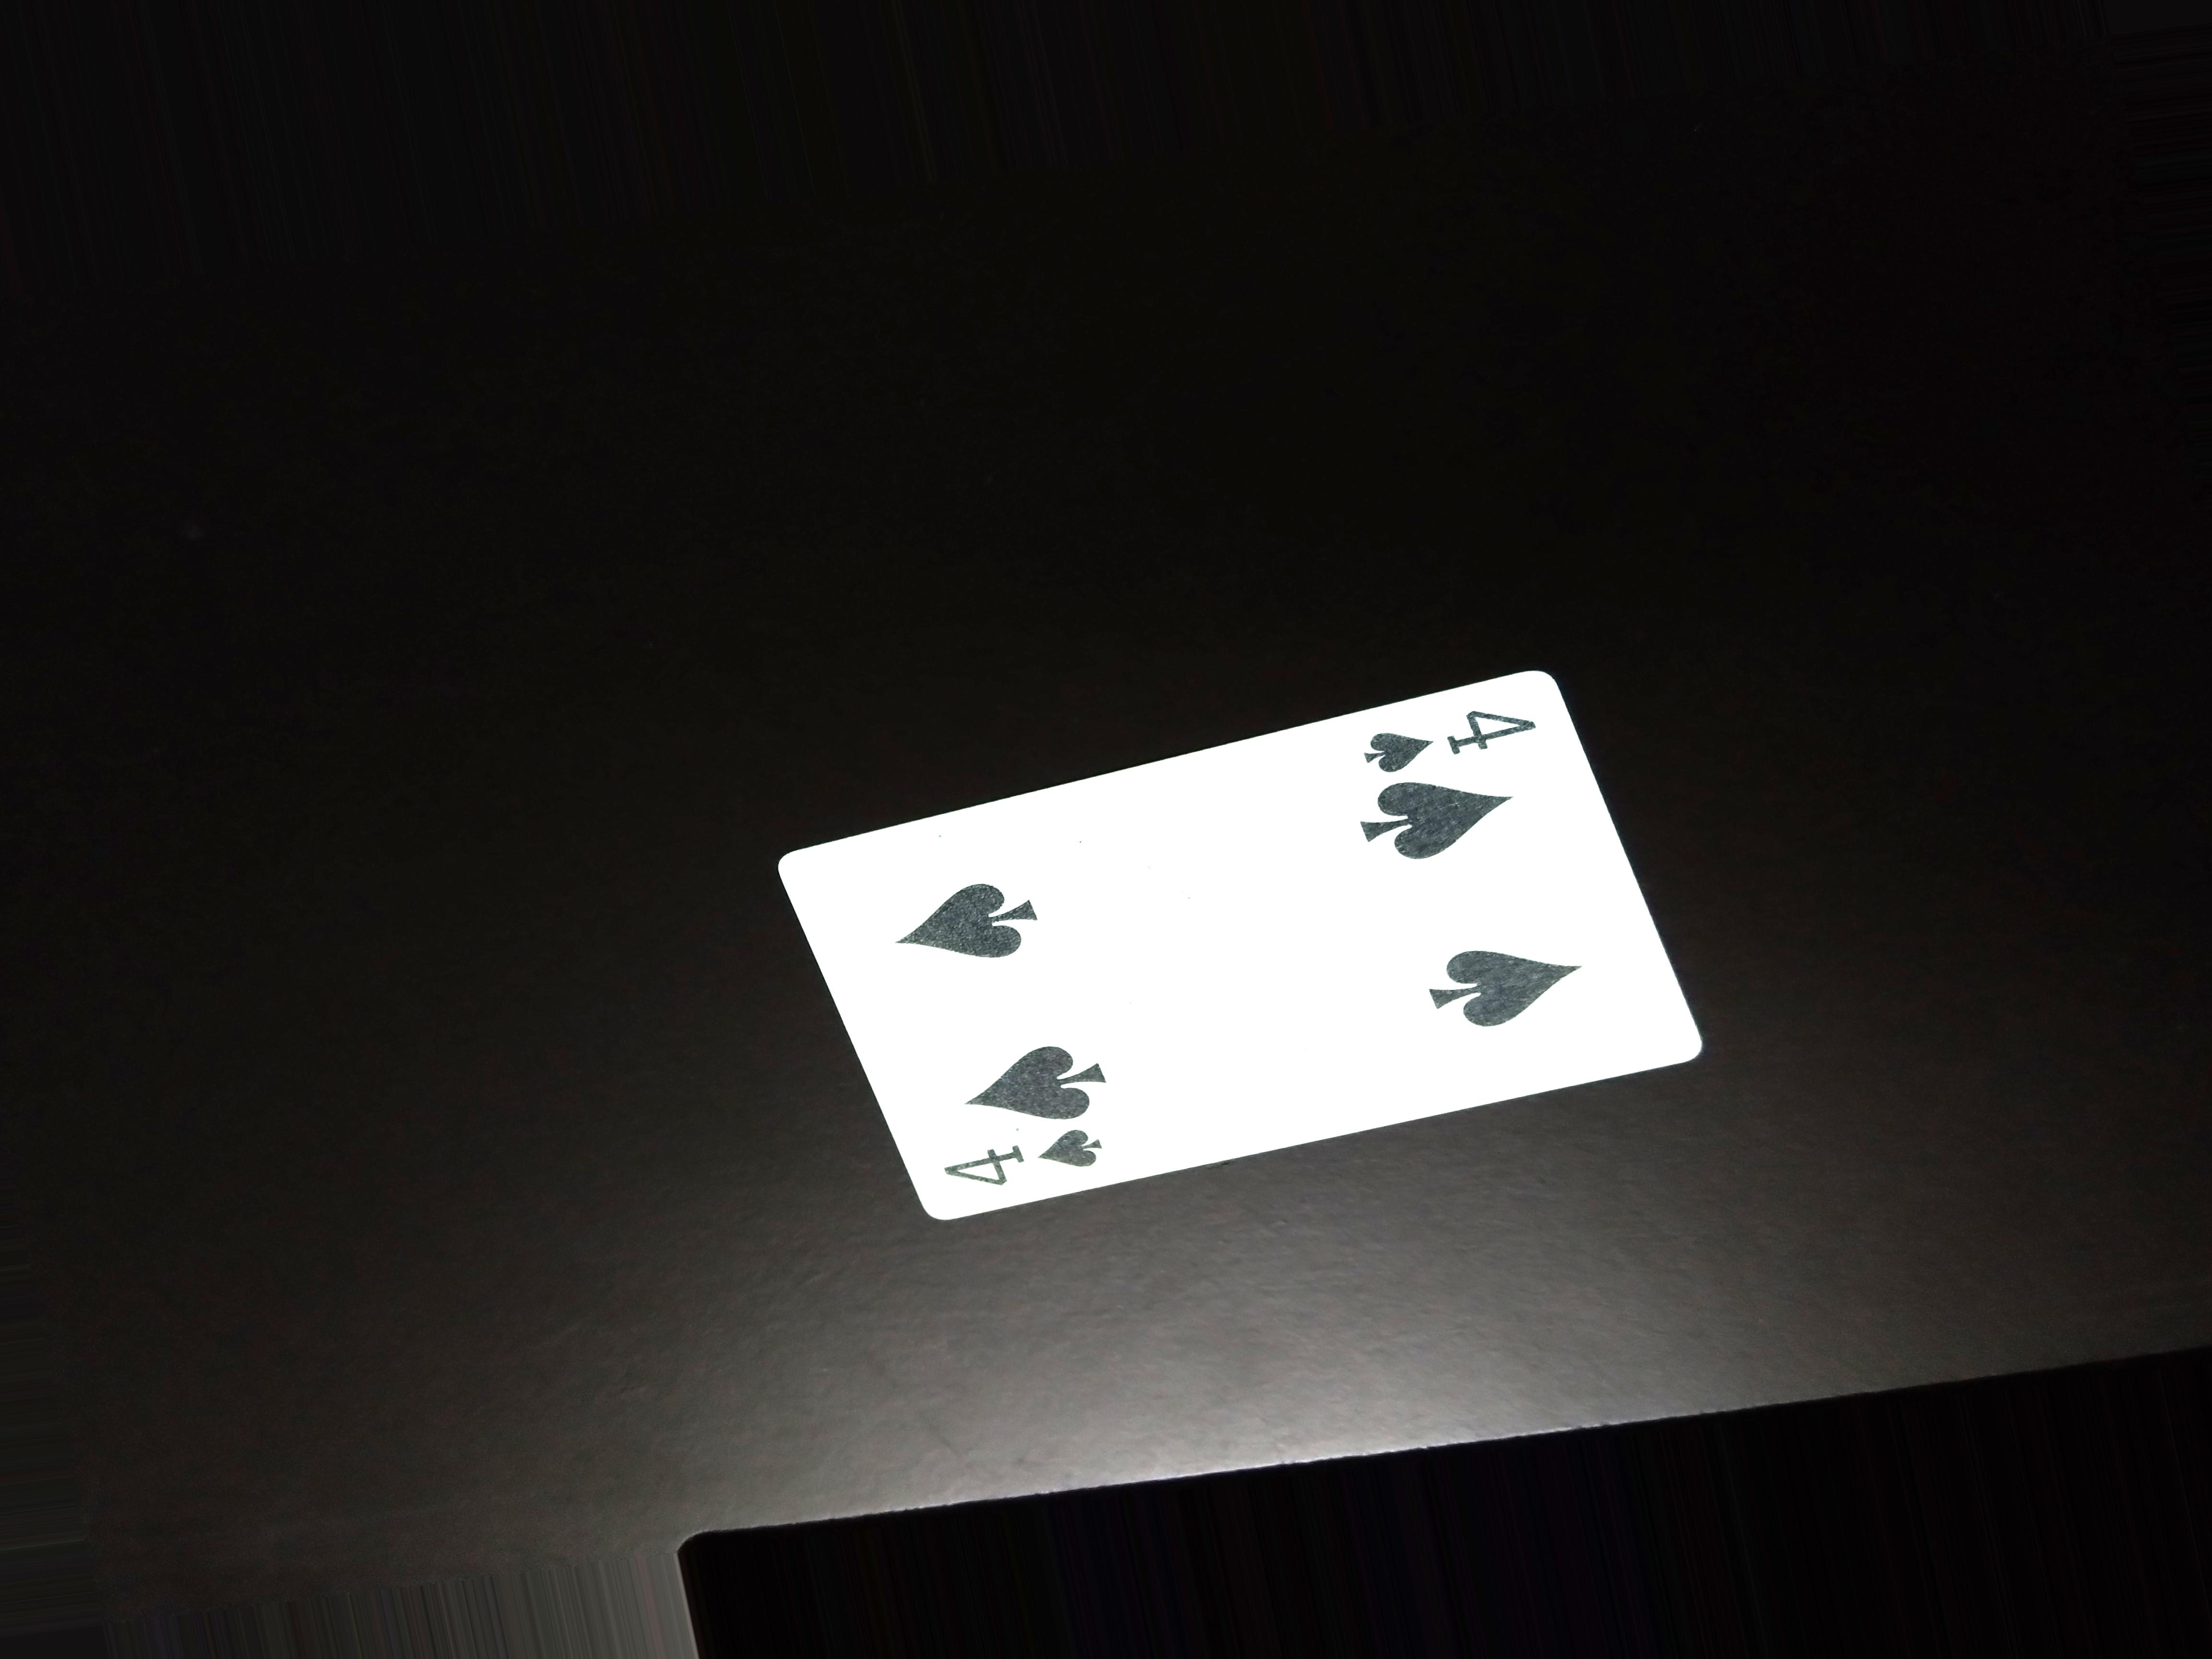4S: (939, 1131, 1144, 1187)
